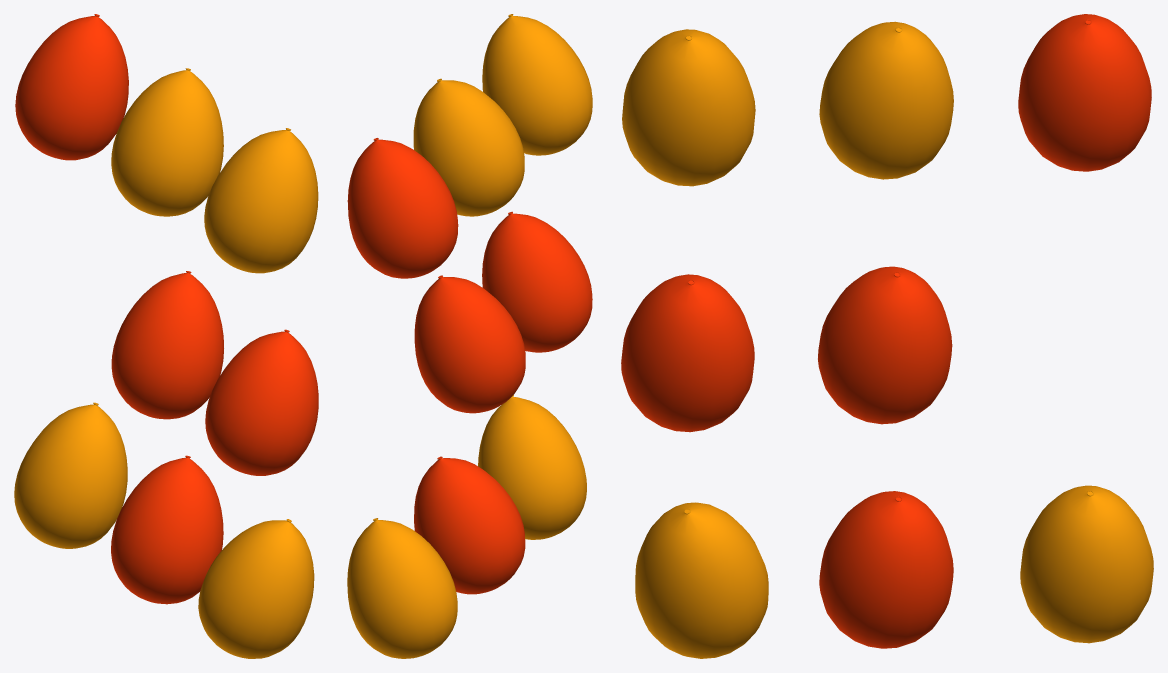
The model's file is SM_Ballons_02.fbx.
3 renders of one model, left to right at view 1: azimuth 30°, elevation 25°; view 2: azimuth 150°, elevation 25°; view 3: azimuth 270°, elevation 25°, orthographic. The views are drawn at different scales.
Parts seen in each view (by area): view 1: SM_Ballons_02_LOD0; view 2: SM_Ballons_02_LOD0; view 3: SM_Ballons_02_LOD0.
Part boxes in pixels (x1,y1,x2,y2): SM_Ballons_02_LOD0: [14, 14, 318, 658]; SM_Ballons_02_LOD0: [347, 14, 592, 658]; SM_Ballons_02_LOD0: [621, 14, 1153, 658].
Size of the model in its own units: 21.49 by 65.14 by 85.45.
Materials: 1 (1 with a texture image).
